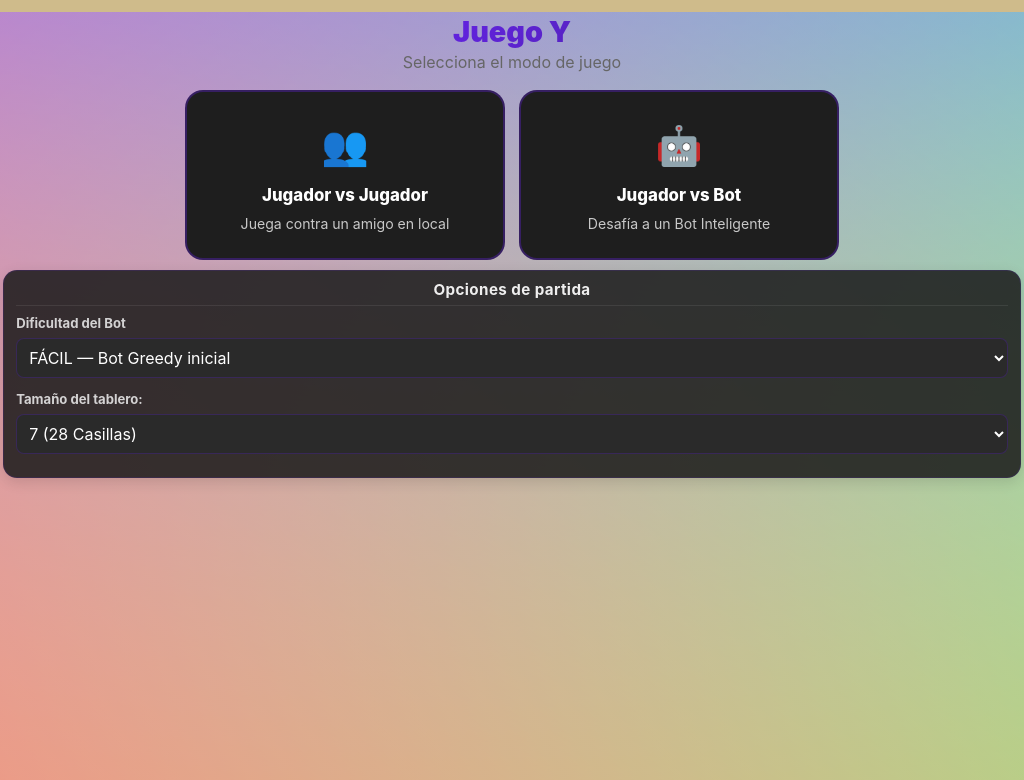
Test case: GameBoard › handles webSocket state messages and updates board
The width and height of the screenshot is (1024, 780).
Click the button "👥 Jugador vs Jugador Juega contra un amigo en local".
click(345, 145)  # box [185,90,505,260]
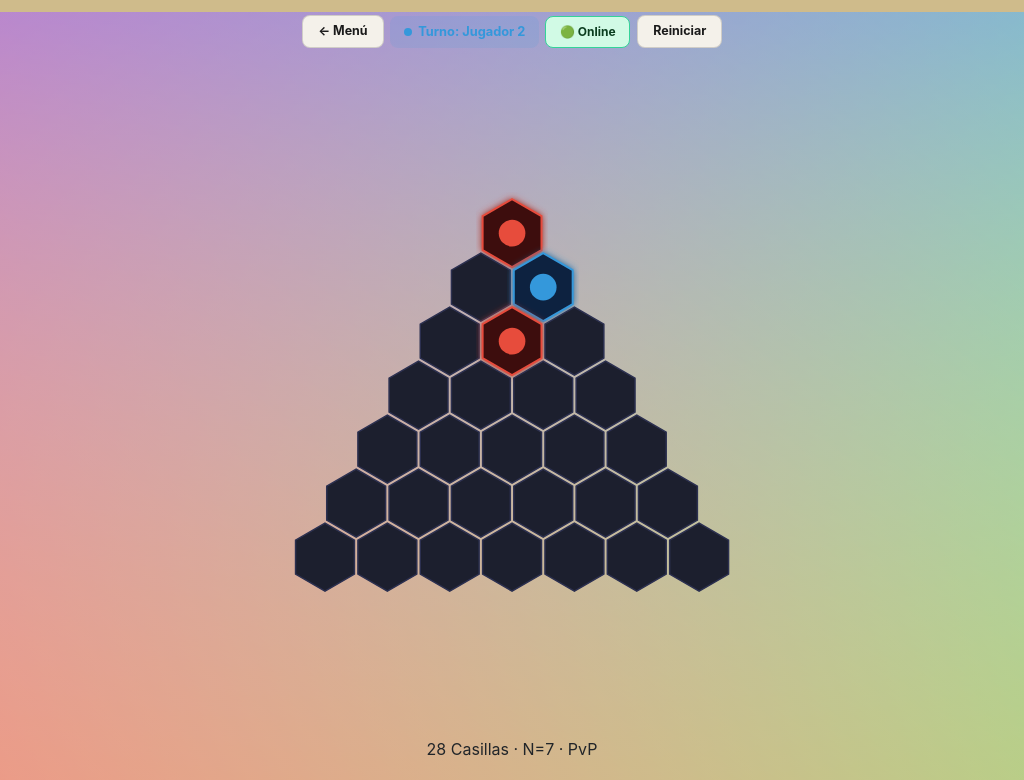
expect the text "🟢 Online" is shown: met, box [545,16,630,48]
expect the text "Turno: Jugador 2" is shown: met, box [418,22,525,41]
